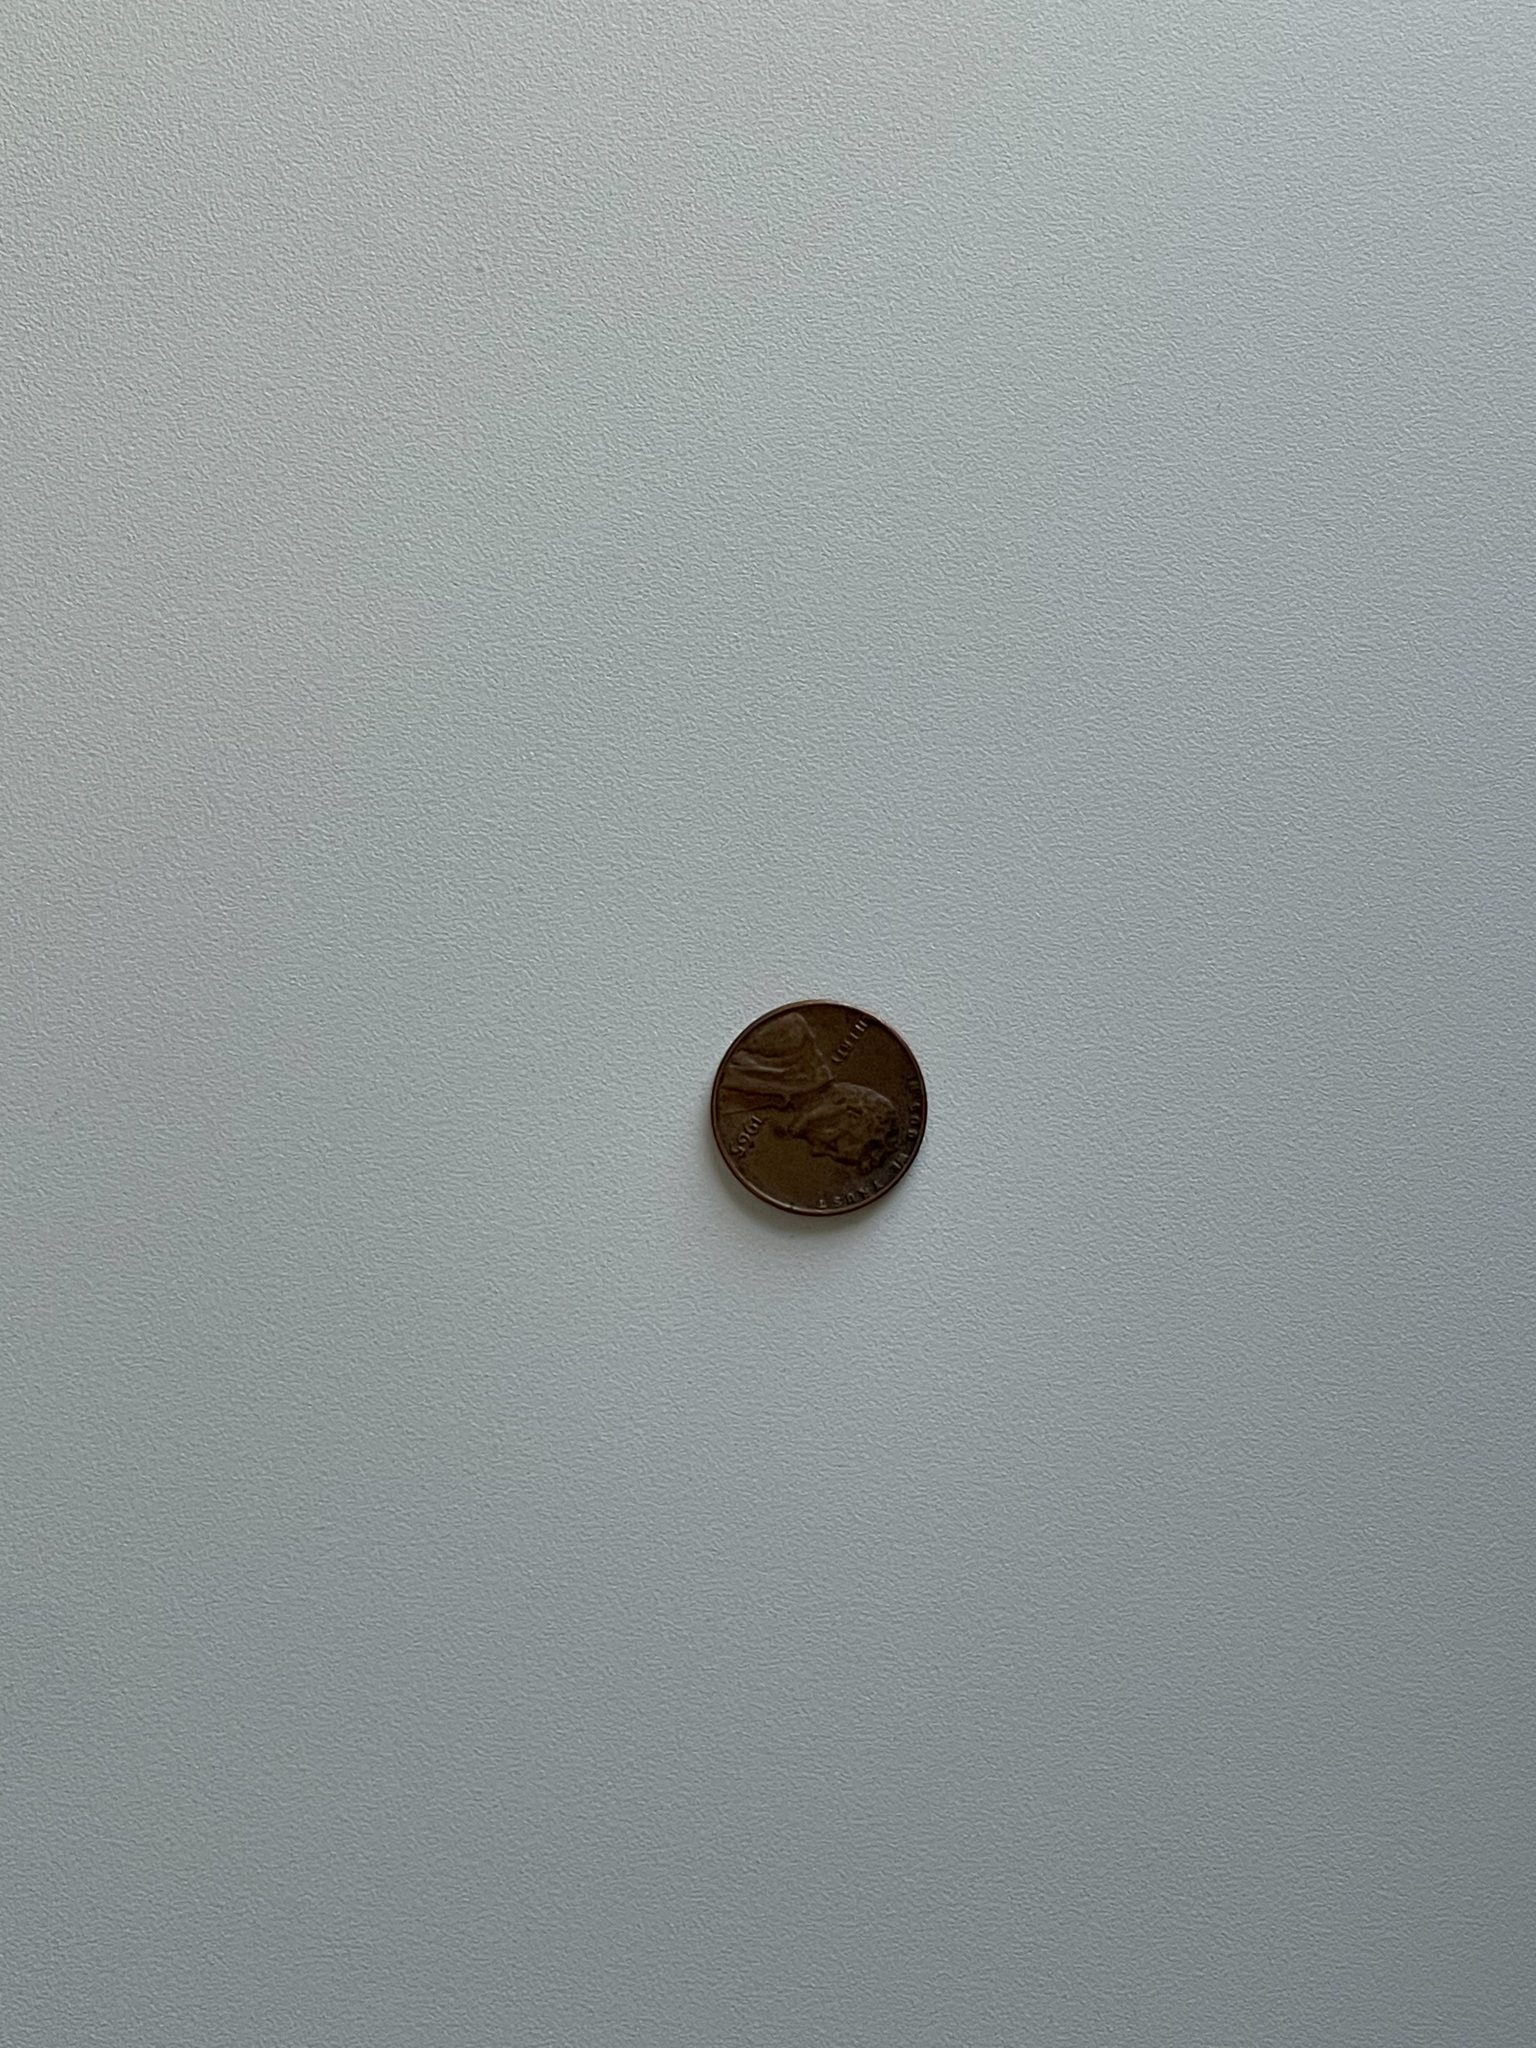penny: (703, 993, 933, 1222)
